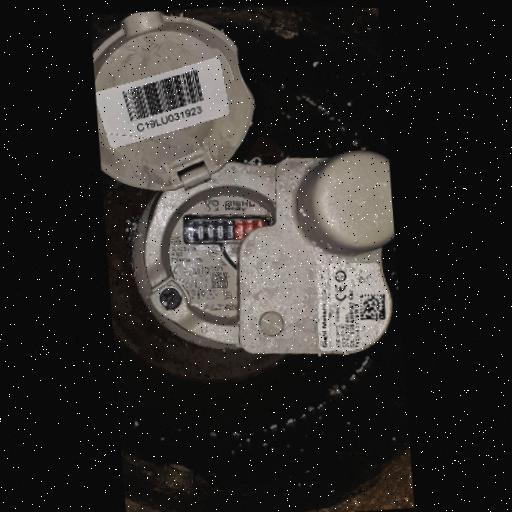0: (204, 221, 218, 242), (194, 220, 207, 242), (184, 222, 198, 242), (214, 220, 227, 241)
1: (254, 219, 265, 229)
3: (234, 220, 247, 241), (225, 220, 237, 241)
6: (244, 220, 255, 236)
border_water_meter_number: (180, 207, 273, 253)
